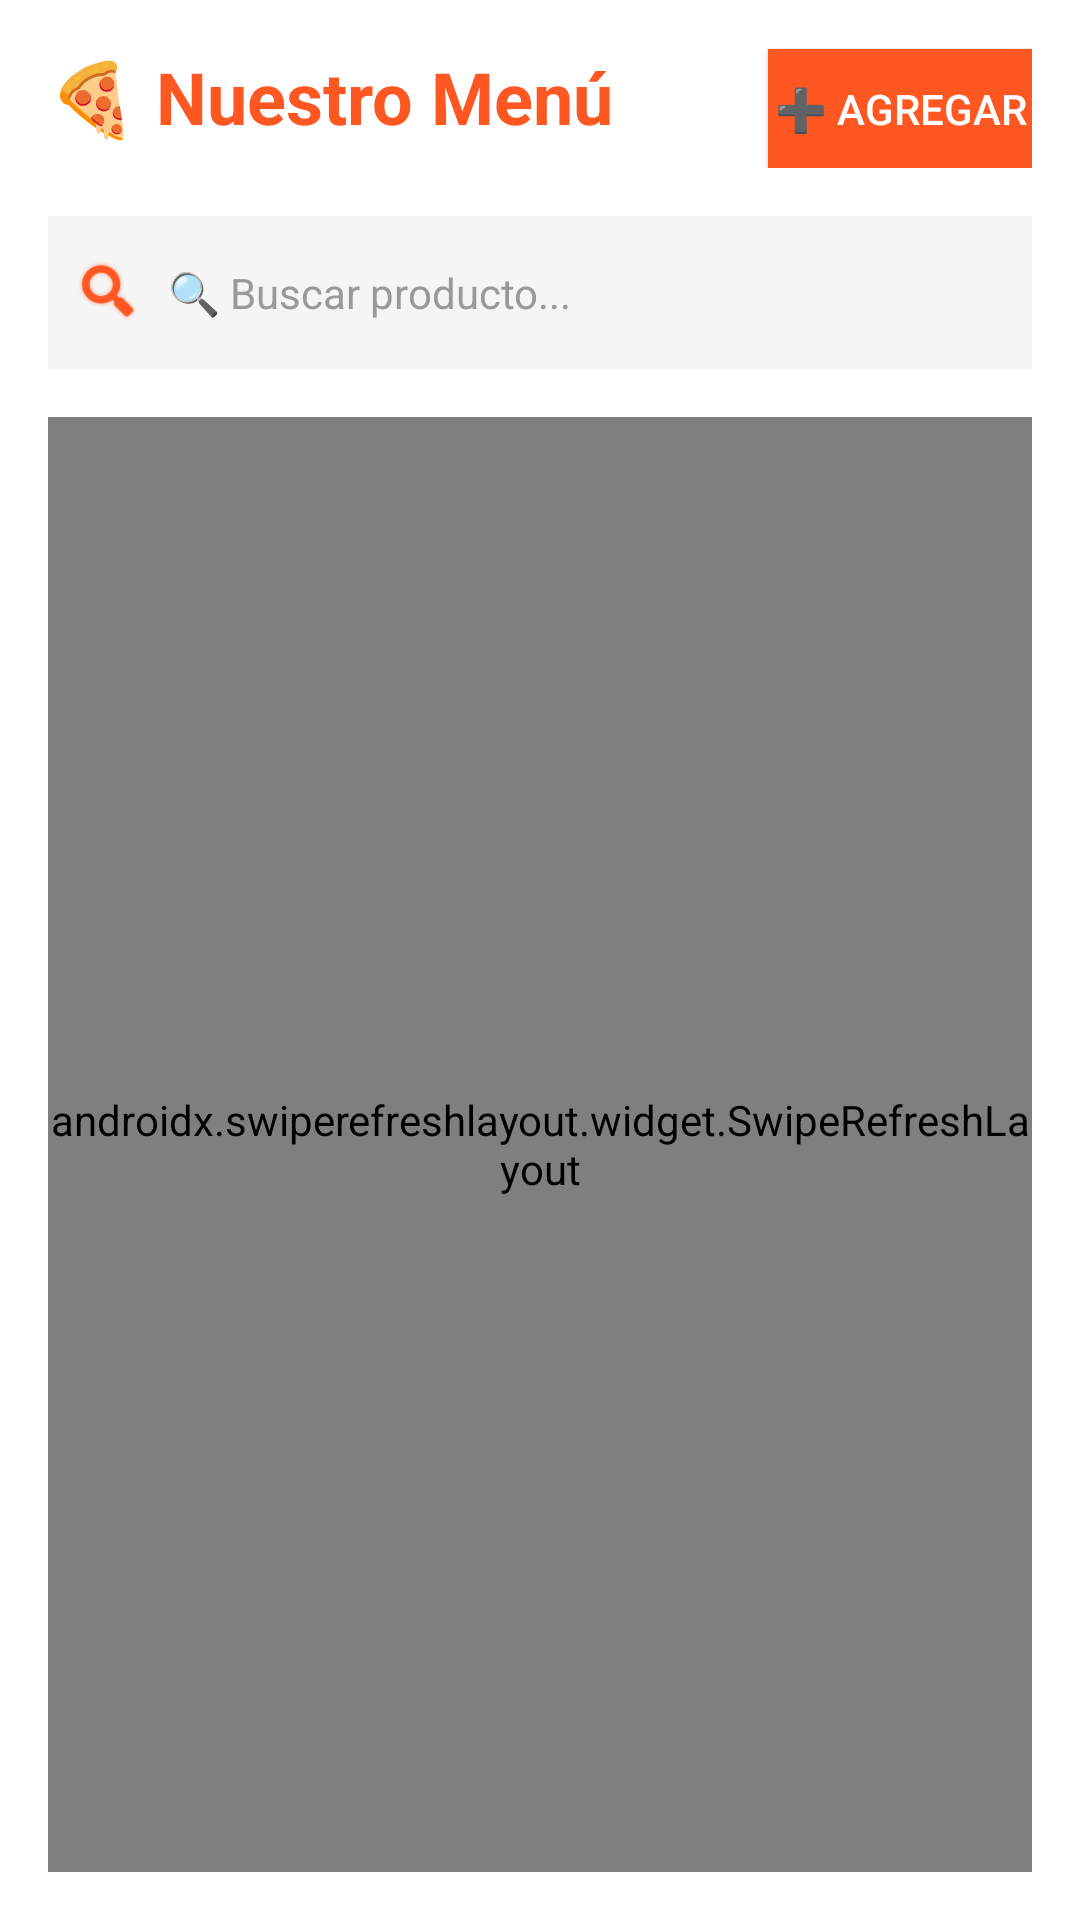

Locate icon controls on the screen. Image size 1080w x 1920h, boxes as (x1, y1, x2, y2).
search category: (80, 264, 135, 318)
